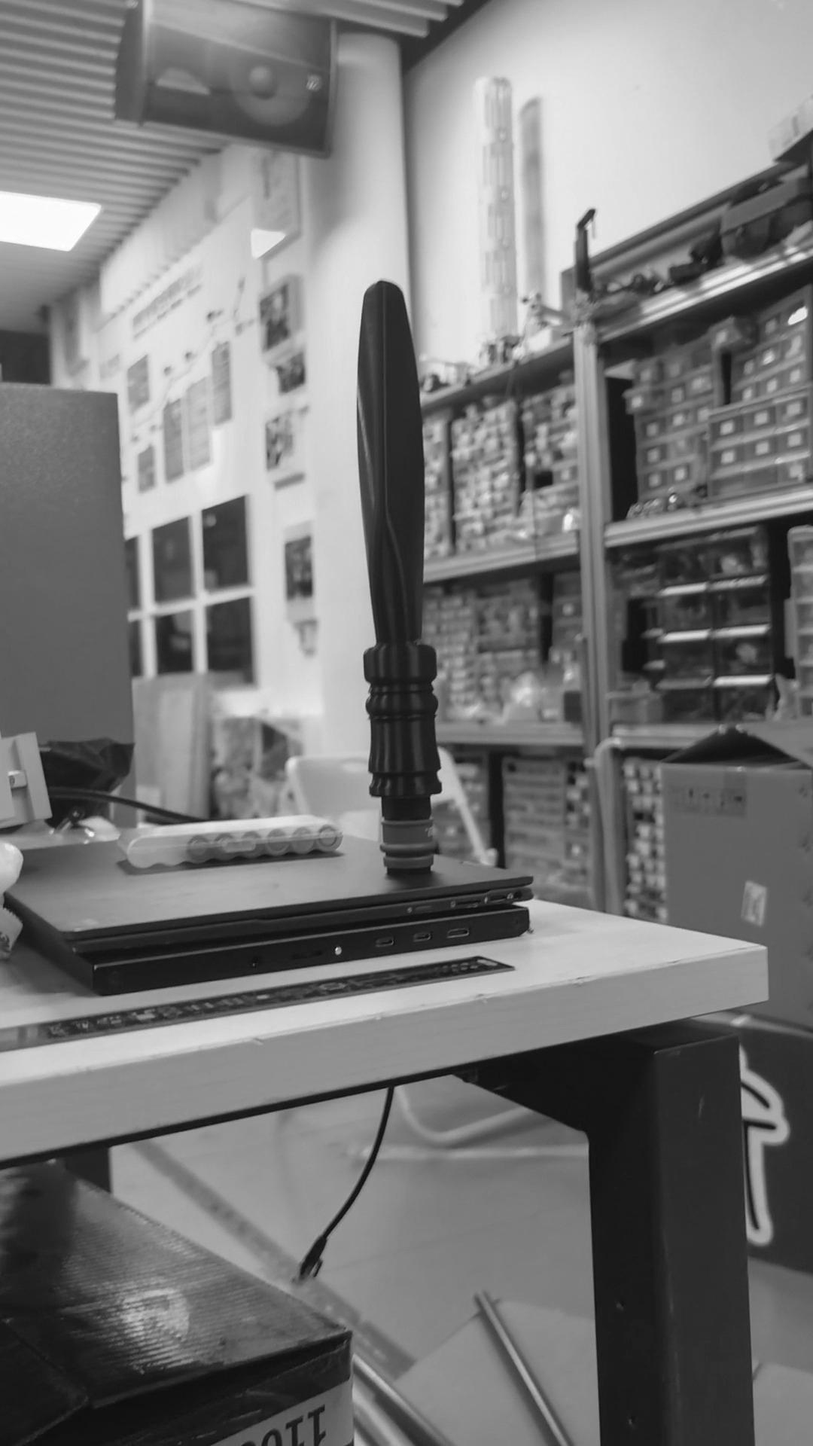base: (369, 811, 447, 892)
